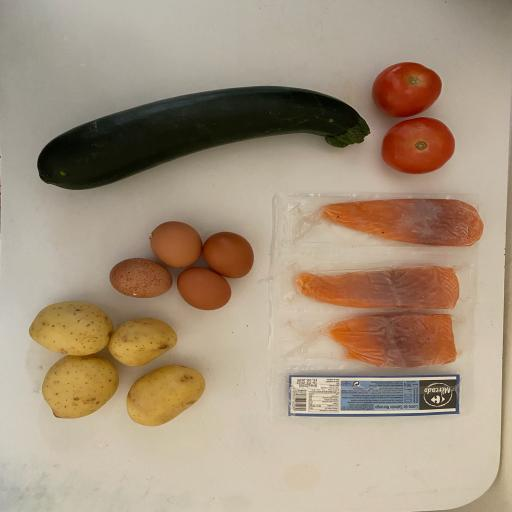courgette: (36, 82, 374, 194)
egg: (106, 254, 176, 301), (197, 228, 259, 280), (173, 265, 236, 313), (148, 218, 203, 270)
potato: (38, 352, 122, 421), (25, 298, 115, 361), (124, 364, 211, 428), (104, 316, 182, 369)
salmon: (318, 195, 484, 251), (289, 262, 464, 312), (318, 310, 462, 369)
tomato: (378, 116, 459, 178), (372, 58, 443, 120)
